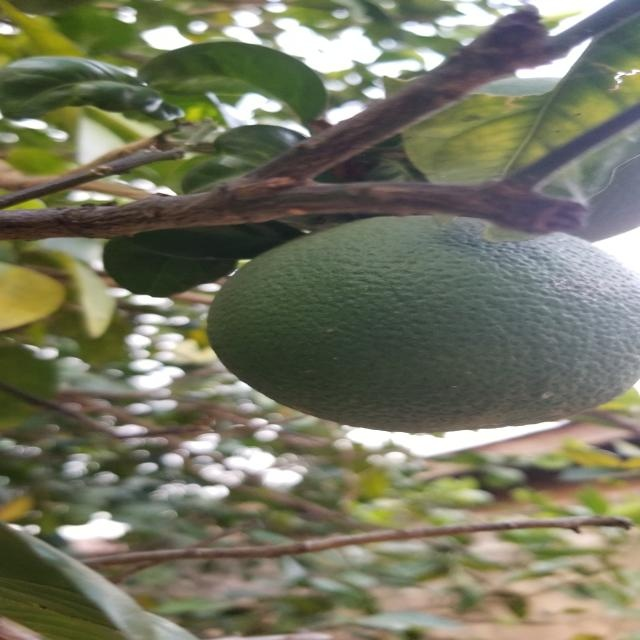agrume: (196, 211, 630, 432)
